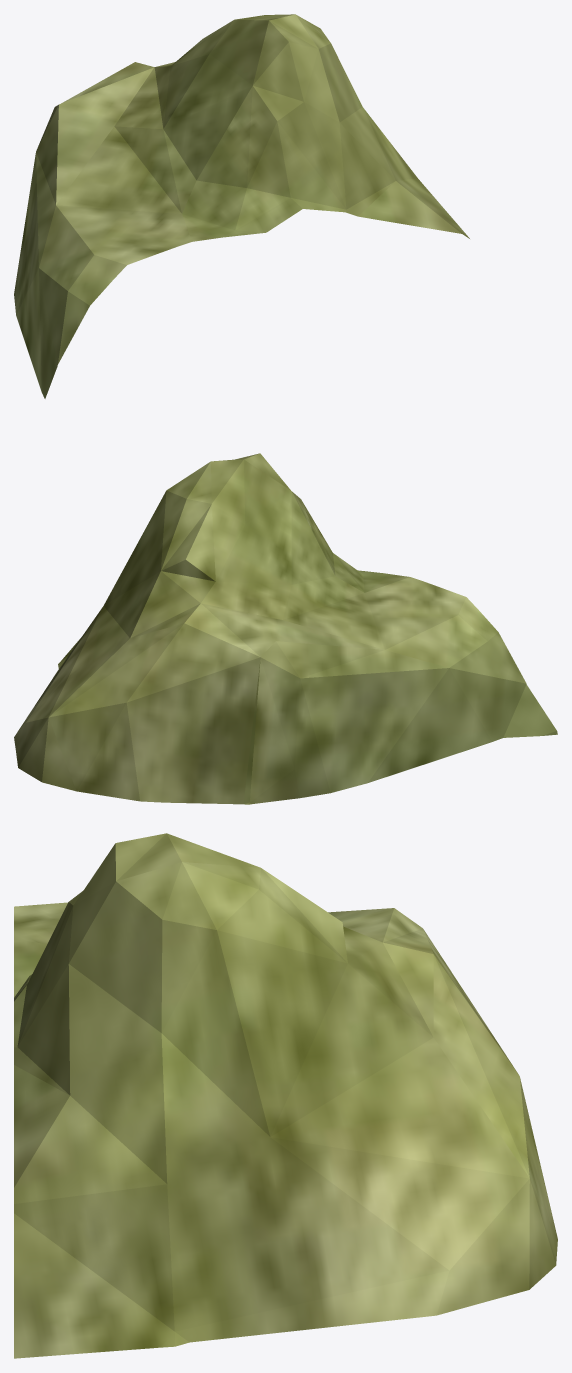
The picture shows the model from 3 angles, top to bottom: view 1: azimuth 30°, elevation 25°; view 2: azimuth 150°, elevation 25°; view 3: azimuth 270°, elevation 25°; orthographic projection. The views are drawn at different scales.
Bounding box in the file's own units: 1.39 × 0.7085 × 0.926.
Materials: 1 (1 with a texture image).
